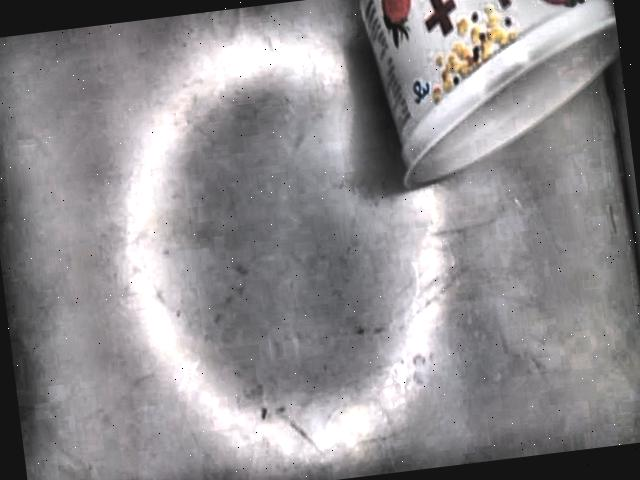Plastic: (355, 0, 618, 189)
